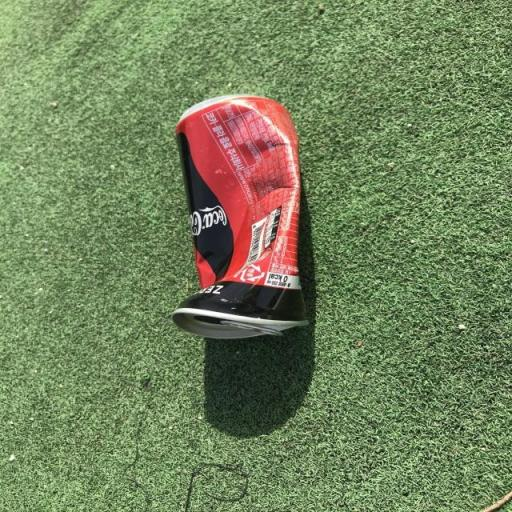metal: (128, 68, 342, 374)
